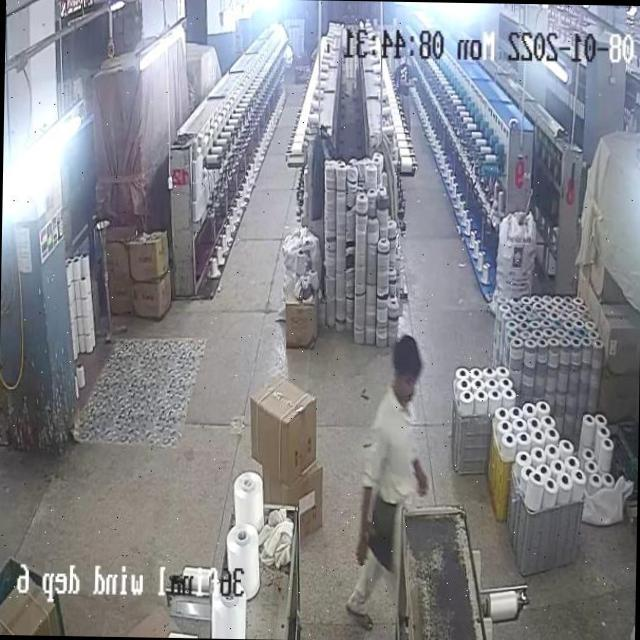person: (356, 340, 422, 592)
